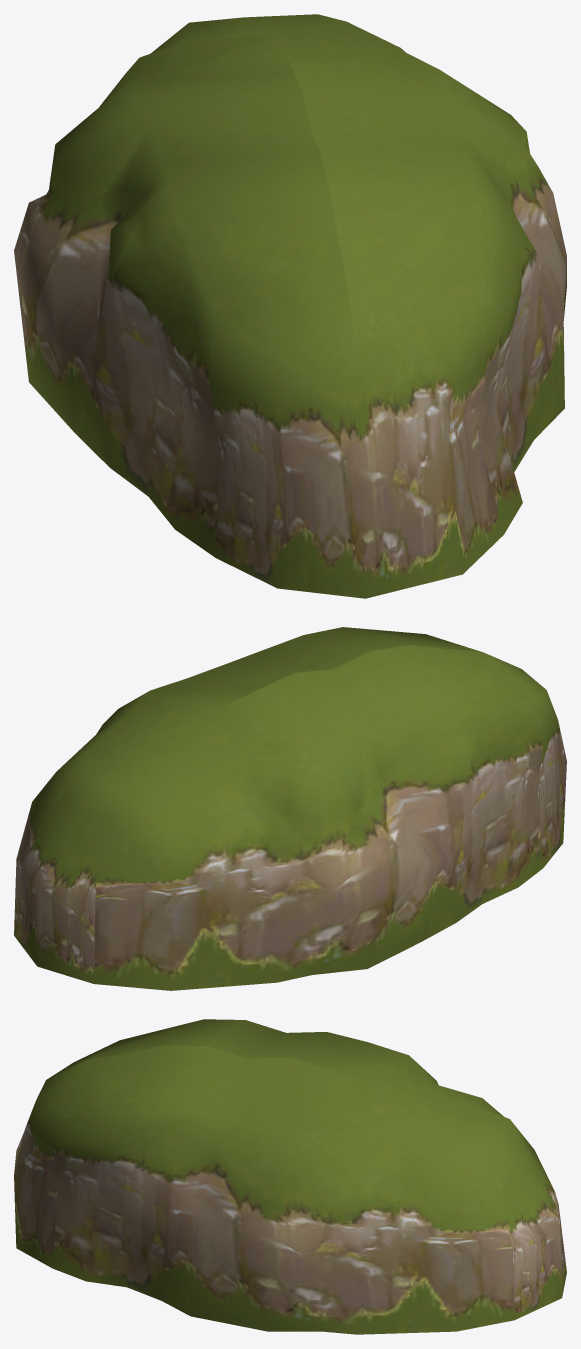
The model's file is gaoyuan_bianyuan_04 (5).fbx.
3 renders of one model, top to bottom at view 1: azimuth 30°, elevation 25°; view 2: azimuth 150°, elevation 25°; view 3: azimuth 270°, elevation 25°, orthographic. The views are drawn at different scales.
Parts seen in each view (by area): view 1: gaoyuan_bianyuan_04 (5); view 2: gaoyuan_bianyuan_04 (5); view 3: gaoyuan_bianyuan_04 (5).
Part boxes in pixels (<box>): gaoyuan_bianyuan_04 (5): <box>14,14,566,598</box>; gaoyuan_bianyuan_04 (5): <box>14,627,566,990</box>; gaoyuan_bianyuan_04 (5): <box>14,1019,566,1334</box>.
Size of the model in its own units: 3.07 by 1.91 by 4.62.
